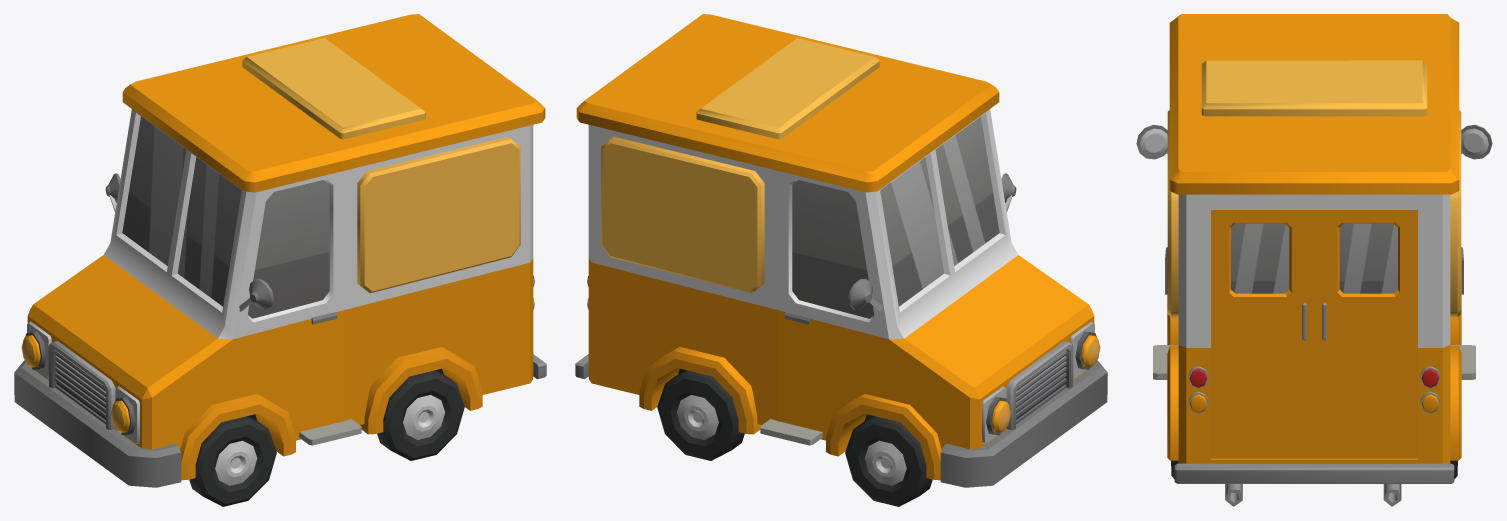
Rendered from Car_14_E.fbx.
3 renders of one model, left to right at view 1: azimuth 30°, elevation 25°; view 2: azimuth 150°, elevation 25°; view 3: azimuth 270°, elevation 25°, orthographic. The views are drawn at different scales.
Parts seen in each view (by area): view 1: Car_14_E, RL, FL; view 2: Car_14_E, RR, FR; view 3: Car_14_E.
Boxes of the visible parts, x1=… form: Car_14_E: x1=14, y1=14, x2=546, y2=487; RL: x1=377, y1=370, x2=464, y2=460; FL: x1=189, y1=416, x2=276, y2=506; Car_14_E: x1=575, y1=14, x2=1107, y2=487; RR: x1=657, y1=370, x2=744, y2=460; FR: x1=845, y1=416, x2=932, y2=506; Car_14_E: x1=1136, y1=14, x2=1492, y2=506.
Bounding box in the file's own units: 2.75 × 2.1 × 1.8.
